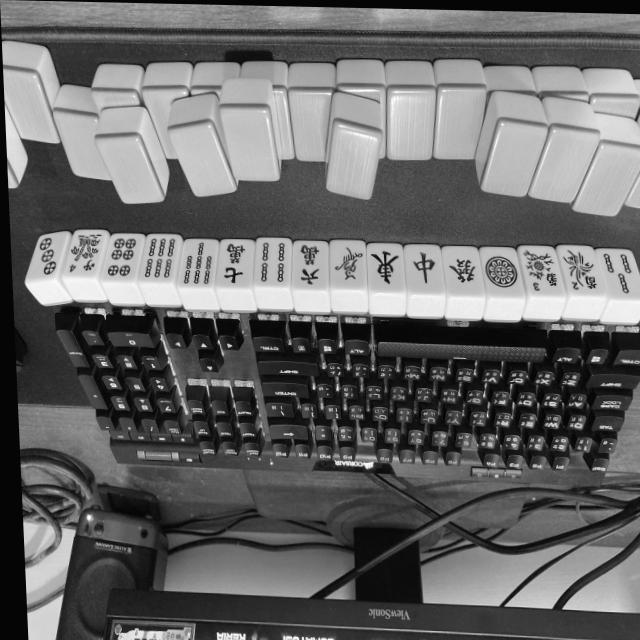east: (369, 245, 407, 294)
f2: (560, 246, 604, 297)
f3: (522, 249, 566, 298)
f4: (66, 230, 109, 278)
fa: (442, 248, 485, 299)
m6: (290, 244, 330, 293)
m7: (214, 241, 256, 290)
s1: (330, 242, 369, 290)
s3: (598, 250, 640, 300)
s4: (254, 239, 295, 289)
s6: (138, 235, 183, 285)
s7: (177, 239, 220, 289)
t1: (481, 248, 524, 298)
t3: (31, 234, 68, 281)
t6: (102, 235, 146, 284)
zhong: (406, 247, 447, 297)
